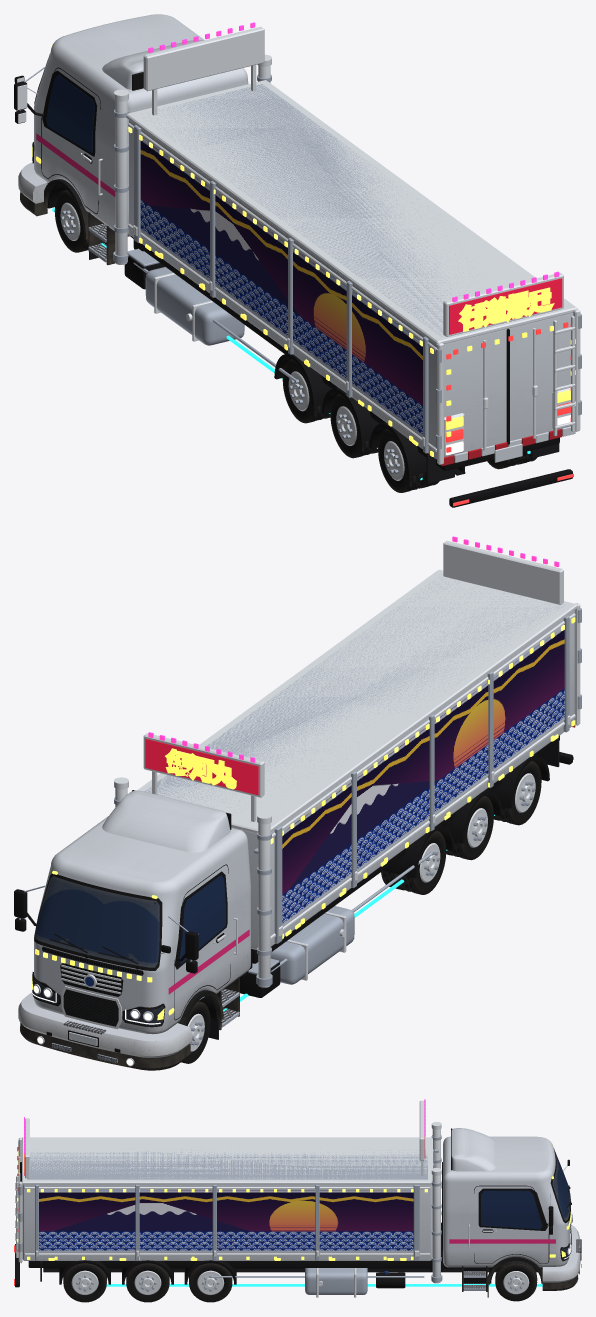
The model's file is dekotora_truck_longo.glb.
3 renders of one model, top to bottom at view 1: azimuth 30°, elevation 25°; view 2: azimuth 150°, elevation 25°; view 3: azimuth 270°, elevation 25°, orthographic. The views are drawn at different scales.
Parts seen in each view (by area): view 1: truck_chrome, truck_paint_white_panel, truck_steel, truck_mural, truck_plastic_black, truck_lamp_amber, truck_plastic_trim, truck_glass, wheel_r_L_1.5_1.06, wheel_r_L_3.0_1.06, wheel_r_L_4.5_1.06, truck_andon_panel (+5 smaller); view 2: truck_chrome, truck_paint_white_panel, truck_mural, truck_steel, truck_glass_wind, truck_plastic_black, truck_plastic_trim, truck_lamp_amber, truck_glass, truck_andon_panel, wheel_r_L_1.5_1.06, wheel_r_L_4.5_1.06 (+4 smaller); view 3: truck_mural, truck_chrome, truck_paint_white_panel, truck_steel, truck_plastic_black, truck_glass, truck_plastic_trim, wheel_f_R, wheel_r_R_1.5_1.06, wheel_r_R_3.0_1.06, wheel_r_R_4.5_1.06, truck_lamp_amber (+4 smaller).
Part boxes in pixels (x1=…): truck_chrome: x1=17, y1=26, x2=580, y2=464; truck_paint_white_panel: x1=18, y1=14, x2=573, y2=459; truck_steel: x1=19, y1=67, x2=581, y2=453; truck_mural: x1=140, y1=139, x2=422, y2=436; truck_plastic_black: x1=14, y1=67, x2=572, y2=507; truck_lamp_amber: x1=31, y1=44, x2=575, y2=456; truck_plastic_trim: x1=20, y1=54, x2=143, y2=264; truck_glass: x1=46, y1=74, x2=94, y2=153; wheel_r_L_1.5_1.06: x1=378, y1=429, x2=424, y2=492; wheel_r_L_3.0_1.06: x1=330, y1=394, x2=374, y2=458; wheel_r_L_4.5_1.06: x1=282, y1=359, x2=326, y2=423; truck_andon_panel: x1=449, y1=278, x2=562, y2=334; truck_chrome: x1=27, y1=540, x2=580, y2=1066; truck_paint_white_panel: x1=18, y1=610, x2=574, y2=1057; truck_mural: x1=282, y1=629, x2=564, y2=925; truck_steel: x1=19, y1=577, x2=581, y2=1027; truck_glass_wind: x1=35, y1=876, x2=159, y2=967; truck_plastic_black: x1=14, y1=735, x2=572, y2=1052; truck_plastic_trim: x1=20, y1=790, x2=239, y2=1070; truck_lamp_amber: x1=31, y1=617, x2=575, y2=1020; truck_glass: x1=179, y1=875, x2=225, y2=963; truck_andon_panel: x1=145, y1=739, x2=258, y2=795; wheel_r_L_1.5_1.06: x1=497, y1=761, x2=541, y2=825; wheel_r_L_4.5_1.06: x1=400, y1=830, x2=446, y2=894; truck_mural: x1=39, y1=1190, x2=413, y2=1252; truck_chrome: x1=15, y1=1100, x2=578, y2=1297; truck_paint_white_panel: x1=22, y1=1128, x2=580, y2=1282; truck_steel: x1=18, y1=1135, x2=551, y2=1294; truck_plastic_black: x1=15, y1=1159, x2=581, y2=1288; truck_glass: x1=481, y1=1190, x2=542, y2=1229; truck_plastic_trim: x1=451, y1=1128, x2=579, y2=1291; wheel_f_R: x1=495, y1=1261, x2=537, y2=1301; wheel_r_R_1.5_1.06: x1=63, y1=1263, x2=106, y2=1302; wheel_r_R_3.0_1.06: x1=126, y1=1263, x2=169, y2=1302; wheel_r_R_4.5_1.06: x1=189, y1=1263, x2=232, y2=1302; truck_lamp_amber: x1=17, y1=1116, x2=571, y2=1260.
Bounding box in the file's own units: 3.32 × 4.35 × 13.57.
Materials: 26 (9 with a texture image).
